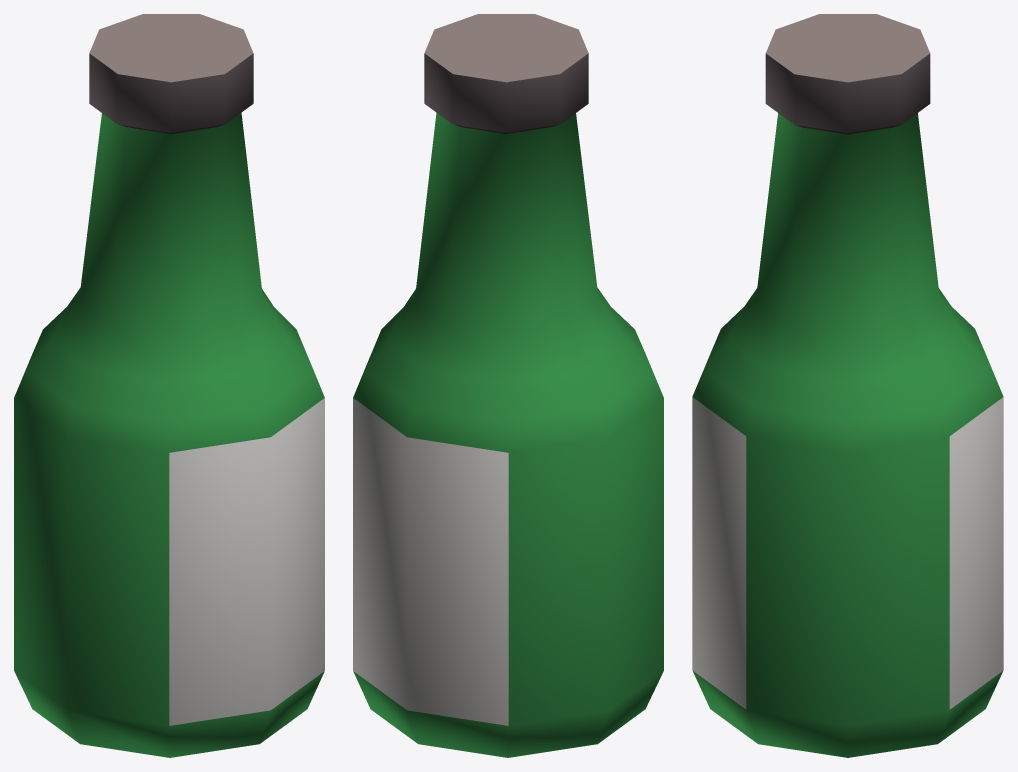
File: beer.fbx
The picture shows the model from 3 angles, left to right: view 1: azimuth 30°, elevation 25°; view 2: azimuth 150°, elevation 25°; view 3: azimuth 270°, elevation 25°; orthographic projection.
Parts seen in each view (by area): view 1: beer; view 2: beer; view 3: beer.
Boxes of the visible parts, x1,y1,x2,y2 form: beer: [14, 14, 324, 757]; beer: [353, 14, 663, 757]; beer: [692, 14, 1003, 757].
Bounding box in the file's own units: 48.57 × 114 × 49.32.
1 material, 1 textured.
